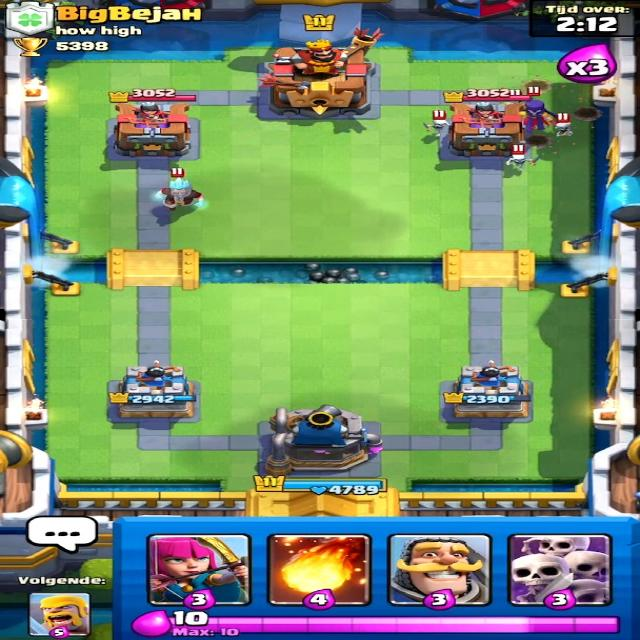Enemy_Ice_Wizard_Troop: (145, 178, 205, 213)
Enemy_Skeleton_Troop: (503, 154, 540, 168), (422, 119, 451, 136), (552, 121, 573, 137)
Enemy_Witch_Troop: (519, 96, 558, 134)
Fireball_Card: (274, 535, 363, 601)
